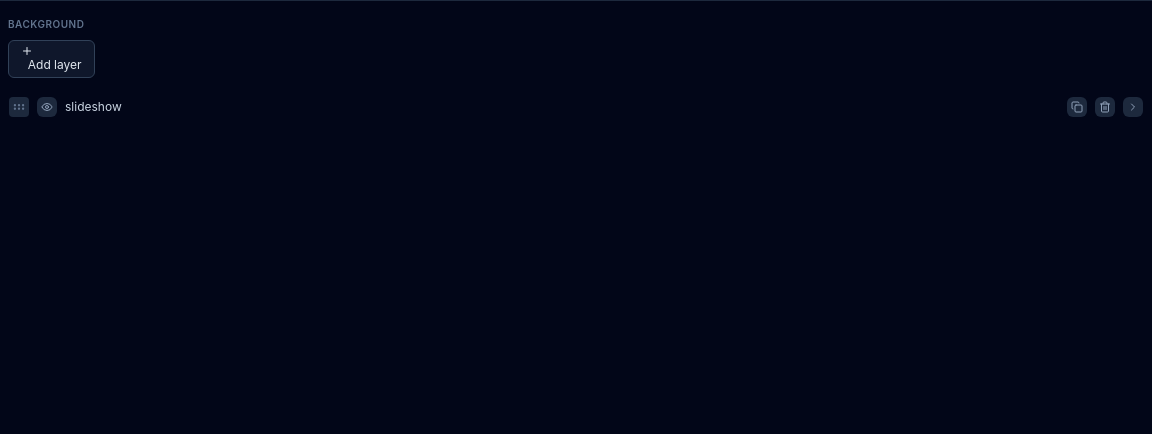
Test: BackgroundPanel › shows the clamped slideshow interval (2000 for an input of 500)
Click the button named "Expand" at (1133, 107), box [1123, 97, 1143, 117]
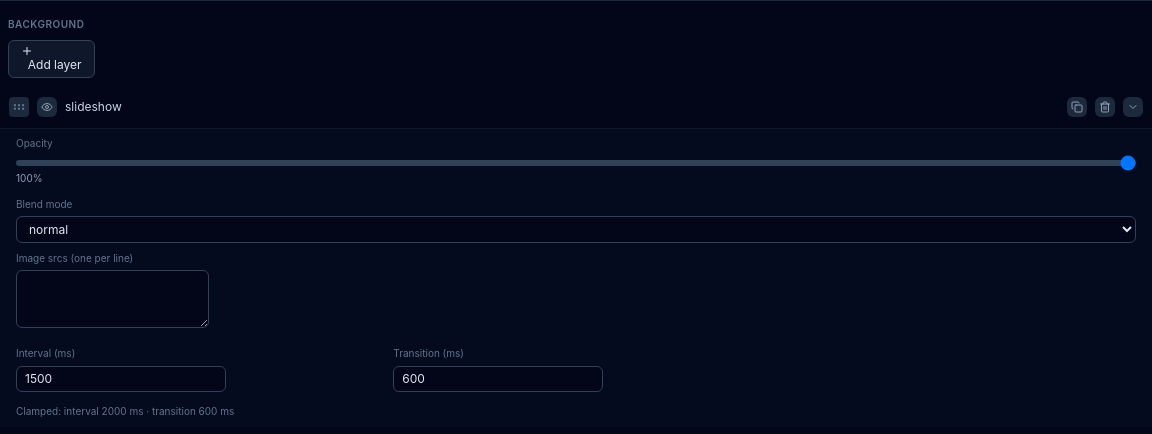
Check: the text "Clamped: interval 2000 ms" is shown, box [16, 405, 234, 417]
